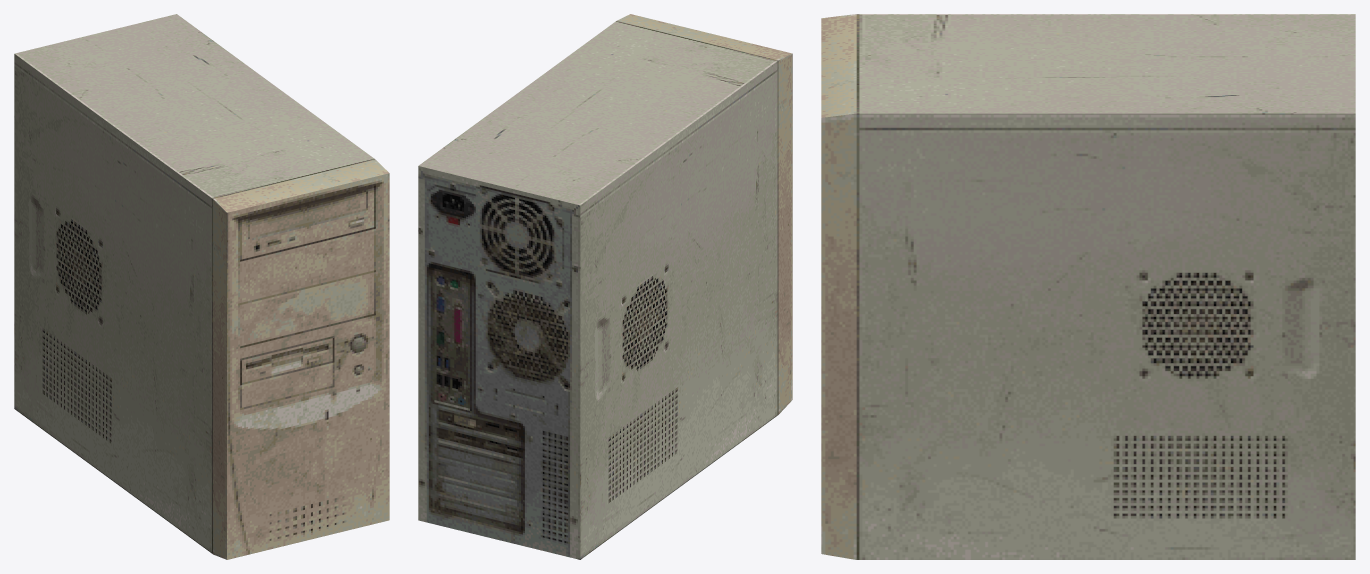
Rendered from psx_computer_case.glb.
The picture shows the model from 3 angles, left to right: view 1: azimuth 30°, elevation 25°; view 2: azimuth 150°, elevation 25°; view 3: azimuth 270°, elevation 25°; orthographic projection. The views are drawn at different scales.
Parts seen in each view (by area): view 1: SM_ComputerCase; view 2: SM_ComputerCase; view 3: SM_ComputerCase.
Boxes of the visible parts, x1,y1,x2,y2 form: SM_ComputerCase: [14, 14, 389, 559]; SM_ComputerCase: [418, 14, 792, 559]; SM_ComputerCase: [821, 14, 1355, 559].
Bounding box in the file's own units: 0.1957 × 0.4089 × 0.4438.
1 material, 1 textured.
